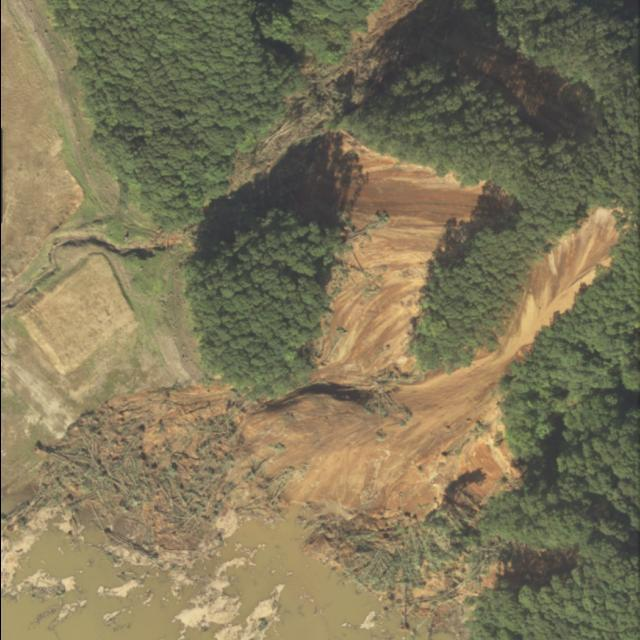landslide: (94, 19, 619, 615)
